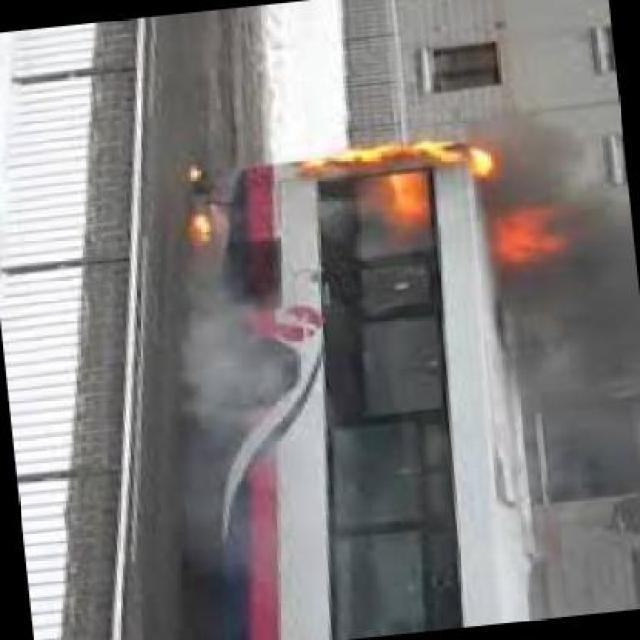Fire: (295, 137, 499, 215), (492, 200, 564, 260)
Smoke: (481, 276, 640, 502), (166, 268, 298, 496), (583, 183, 640, 260)
